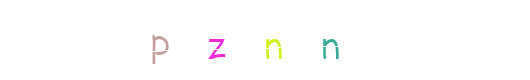N: (225, 0, 305, 80), (233, 0, 313, 80)
P: (176, 0, 256, 80)
Z: (203, 0, 283, 80)
